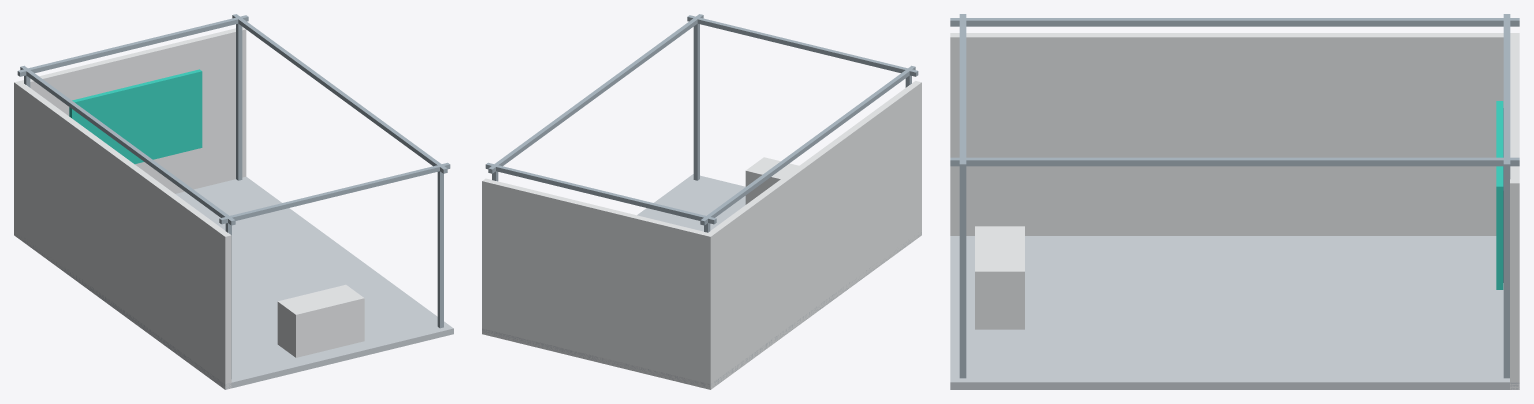
3 views of the same model, side by side, from view 1: azimuth 30°, elevation 25°; view 2: azimuth 150°, elevation 25°; view 3: azimuth 270°, elevation 25° (orthographic). The views are drawn at different scales.
Parts seen in each view (by area): view 1: Exhibition Booth Concept; view 2: Exhibition Booth Concept; view 3: Exhibition Booth Concept.
Boxes of the visible parts, bbox=[...] form: Exhibition Booth Concept: bbox=[14, 14, 453, 389]; Exhibition Booth Concept: bbox=[482, 14, 921, 389]; Exhibition Booth Concept: bbox=[950, 14, 1519, 389].
Bounding box in the file's own units: 5 × 3.49 × 8.
